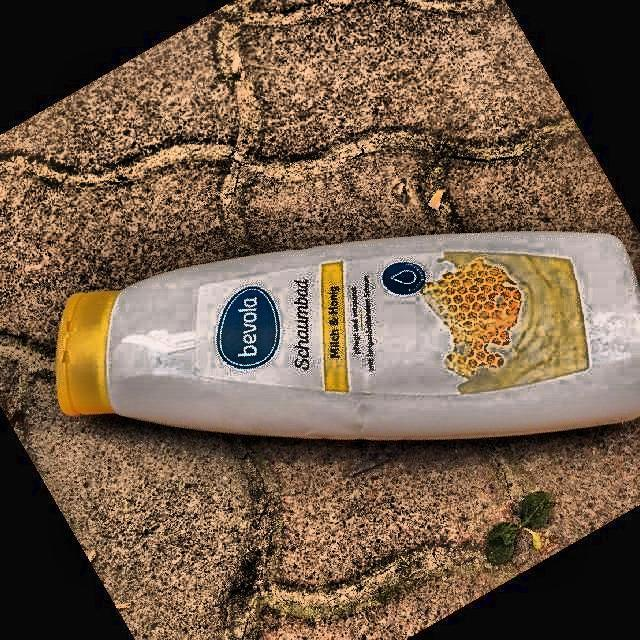plastic: (56, 232, 640, 439)
